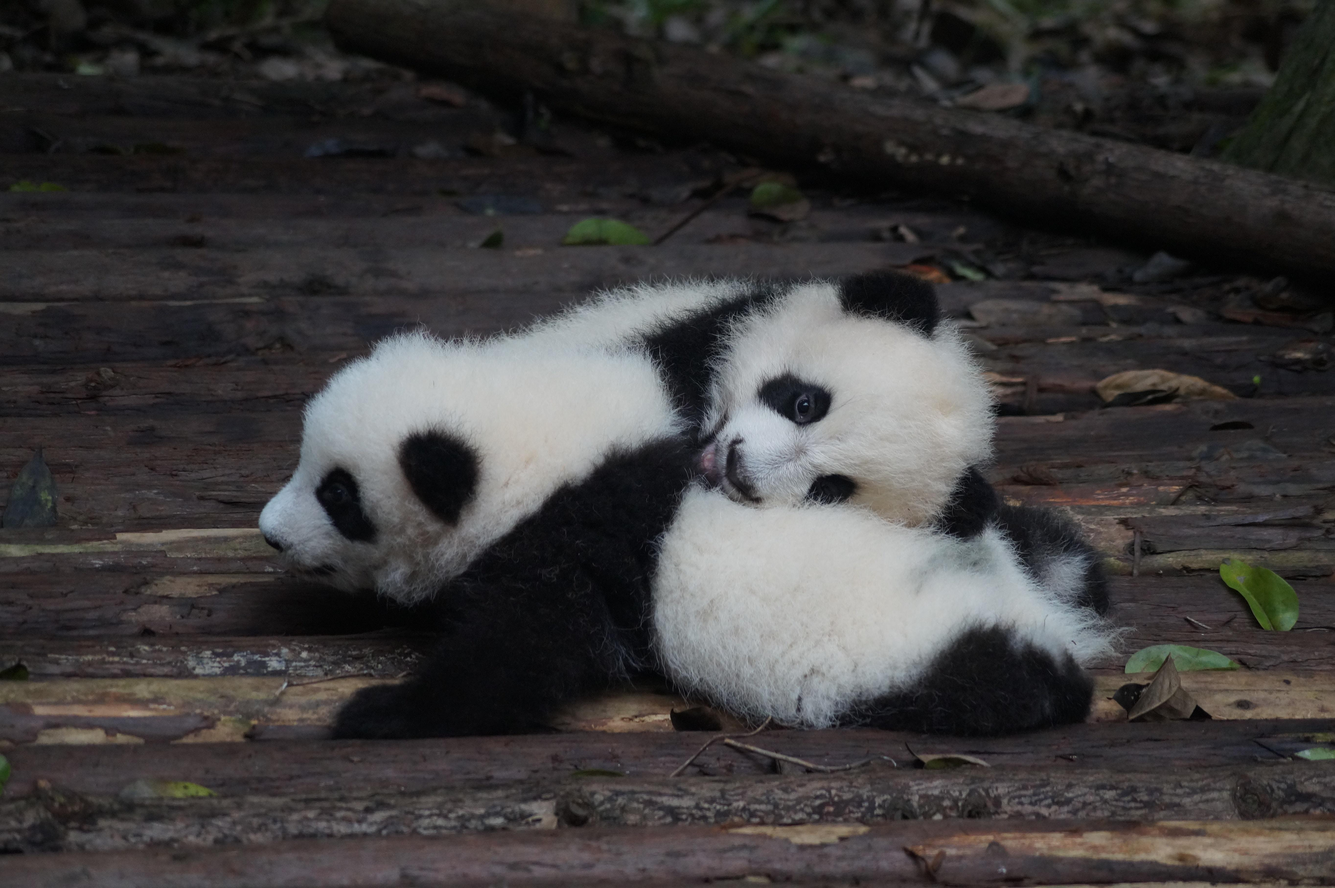panda: (250, 260, 1119, 758)
